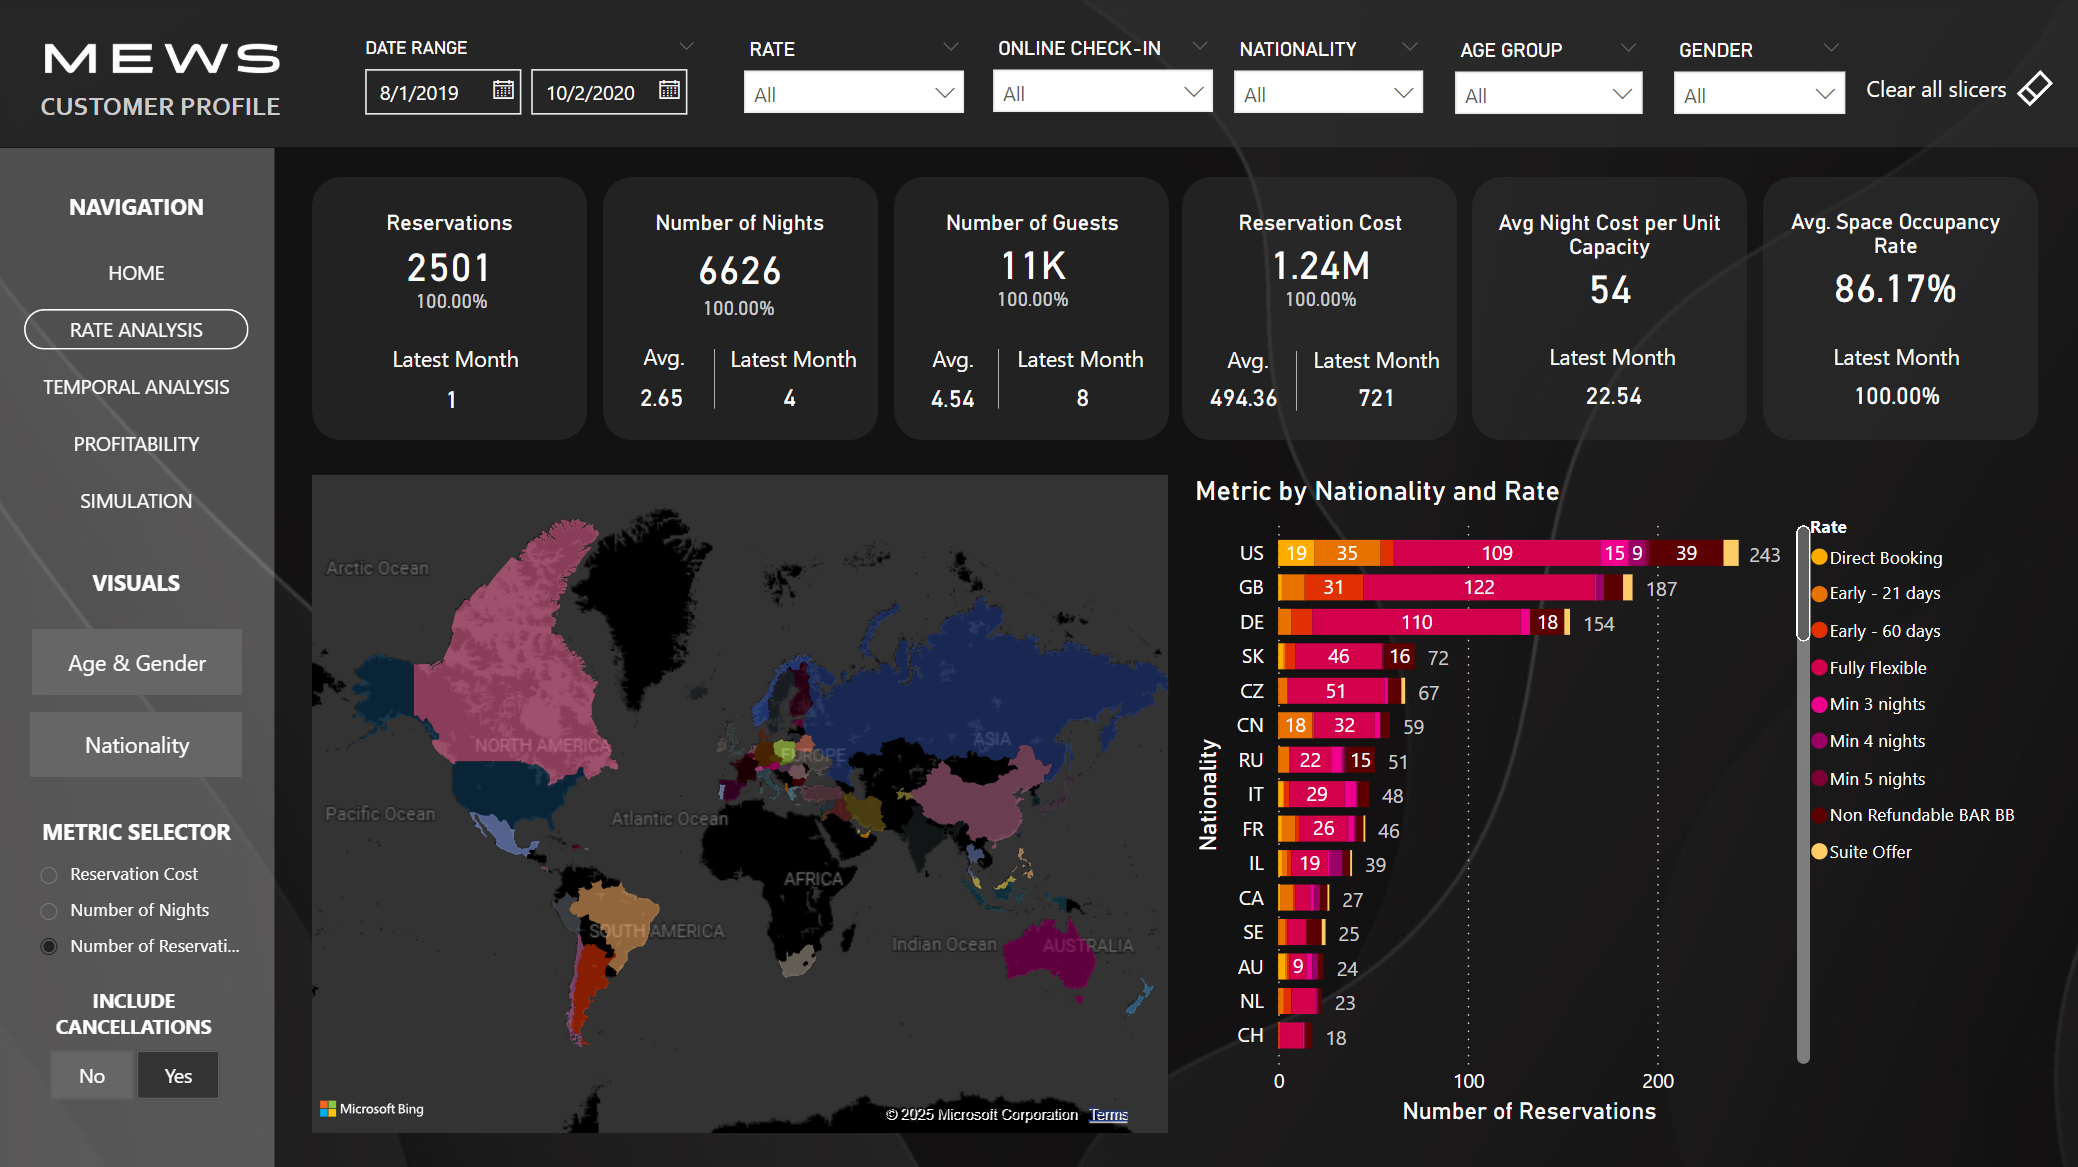

The page's visual inventory and layout, read from the dashboard file:
{"tool":"powerbi","page":{"name":"RATE ANALYSIS","canvas":[1280,720],"ordinal":1},"visuals":[{"type":"group","id":"g1","title":"Background","box":[0,0,1280,720.9],"z":0},{"type":"shape","title":"Header Bar","box":[0,0,1280,91.7],"z":0,"group":"g2"},{"type":"shape","title":"Side Bar","box":[0,91.9,169.8,627.7],"z":0,"group":"g5"},{"type":"shape","title":"Box Reservations","box":[193.3,110,169.2,161.7],"z":0,"group":"g10"},{"type":"shape","title":"Box Num Nights","box":[371.7,110,169.2,161.7],"z":0,"group":"g11"},{"type":"shape","title":"Box Reservation Cost","box":[727.5,110,169.2,161.7],"z":0,"group":"g9"},{"type":"shape","title":"Box Avg. Night per Unit","box":[905.8,110,169.2,161.7],"z":0,"group":"g7"},{"type":"shape","title":"Box Avg. Occupancy","box":[1084.2,110,169.2,161.7],"z":0,"group":"g8"},{"type":"textbox","title":"Text Navitagor","box":[0,114.1,170,31.7],"z":0,"group":"g6"},{"type":"columnChart","title":"Metric by Gender and Rate","fields":{"Y":["int_reservations_enriched.Reservations"],"Category":["int_reservations_enriched.rate_name"],"Series":["int_reservations_enriched.gender"]},"box":[193.3,292.9,474.7,404.9],"z":0,"group":"g3"},{"type":"actionButton","title":"Nationality Bookmark","box":[20.6,438.6,129.1,39.7],"z":0,"group":"g4"},{"type":"shape","title":"Shader","box":[0,0,1280,720.9],"z":1000,"group":"g1"},{"type":"textbox","title":"Customer Profile Text","box":[20.8,51.7,165.8,30.8],"z":1000,"group":"g2"},{"type":"card","title":"Avg. Space Occupancy Rate","fields":{"Values":["int_reservations_enriched.avg_occupancy_rate"]},"box":[1088.2,129.5,155.6,70.4],"z":1000,"group":"g8"},{"type":"card","title":"Reservations","fields":{"Values":["int_reservations_enriched.Reservations"]},"box":[192.5,130,170,58.3],"z":1000,"group":"g10"},{"type":"card","title":"Avg Night Cost per Unit Capacity","fields":{"Values":["int_reservations_enriched.AvgNightCostPerUnitCapacity"]},"box":[905.8,130,169.2,70.8],"z":1000,"group":"g7"},{"type":"pageNavigator","box":[15.8,155.8,138.3,167.2],"z":1000,"group":"g6"},{"type":"card","title":"Avg. Num Nights","fields":{"Values":["int_reservations_enriched.avg_number_of_nights"]},"box":[370,215.8,75.8,62.5],"z":1000,"group":"g11"},{"type":"card","title":"Avg. Cost","fields":{"Values":["int_reservations_enriched.avg_reservation_cost"]},"box":[727.5,215.8,75.8,62.5],"z":1000,"group":"g9"},{"type":"treemap","title":"Metric by Age Group and Rate","fields":{"Values":["int_reservations_enriched.Reservations"],"Group":["int_reservations_enriched.age_group"],"Details":["int_reservations_enriched.rate_name"]},"box":[687.8,292.6,565.6,404.9],"z":1000,"group":"g3"},{"type":"actionButton","title":"Age & Gender Bookmark","box":[20.6,387.4,129.1,40.5],"z":1000,"group":"g4"},{"type":"slicer","title":"INCLUDE CANCELLATIONS","fields":{"Values":["IncludeCancellations.Include"]},"box":[6.1,607.5,154.4,75.7],"z":1000,"group":"g5"},{"type":"group","id":"g2","title":"Header","box":[0,0,1280,92.5],"z":2000},{"type":"image","title":"Mews Logo","box":[24.2,14.2,154.2,45.8],"z":2000,"group":"g2"},{"type":"shape","title":"Box Num Guests","box":[550,110,169.2,161.7],"z":2000,"group":"g12"},{"type":"card","title":"Reservations %","fields":{"Values":["int_reservations_enriched.% Reservations"]},"box":[193.7,151.7,170,71.7],"z":2000,"group":"g10"},{"type":"textbox","title":"Text Avg Num Nights","box":[391.7,206.7,49.2,33.3],"z":2000,"group":"g11"},{"type":"textbox","title":"Text Avg. Cost","box":[750,208.3,46.7,33.3],"z":2000,"group":"g9"},{"type":"card","title":"LM Avg. Night per Unit","fields":{"Values":["int_reservations_enriched.latest_month_night_cost_per_unit_capacity"]},"box":[955,214.2,75.8,62.5],"z":2000,"group":"g7"},{"type":"card","title":"LM Avg. Space Occupancy","fields":{"Values":["int_reservations_enriched.latest_month_occupancy_rate"]},"box":[1128.4,214.2,75.8,62.5],"z":2000,"group":"g8"},{"type":"textbox","title":"Visuals text box","box":[0,345.2,169.8,31.9],"z":2000,"group":"g4"},{"type":"slicer","title":"METRIC SELECTOR","fields":{"Values":["Parameter.Metric Selector"]},"box":[13,503.1,144.2,104.3],"z":2000,"group":"g5"},{"type":"slicer","title":"Gender Slicer","fields":{"Values":["int_reservations_enriched.gender"]},"box":[1019.8,20.2,124.5,71.8],"z":3000,"group":"g2"},{"type":"textbox","title":"Text LM Avg. Night per Unit","box":[948.3,206.7,95.8,45],"z":3000,"group":"g7"},{"type":"textbox","title":"Text LM Avg. Space Occupancy","box":[1122.5,206.7,95.8,45],"z":3000,"group":"g8"},{"type":"shape","title":"Num Nights Separator","box":[421.7,215.8,37.5,36.7],"z":3000,"group":"g11"},{"type":"card","title":"Avg. Num Guests","fields":{"Values":["int_reservations_enriched.avg_number_of_guests"]},"box":[548.3,216,75.8,62.5],"z":3000,"group":"g12"},{"type":"card","title":"LM Reservations","fields":{"Values":["int_reservations_enriched.latest_month_number_of_reservations"]},"box":[240.8,216.7,75.8,62.5],"z":3000,"group":"g10"},{"type":"shape","title":"Cost Separator","box":[779.2,216.7,37.5,36.7],"z":3000,"group":"g9"},{"type":"group","id":"g3","title":"Visuals","box":[19.9,292.6,1233.6,405.3],"z":3000},{"type":"group","id":"g4","title":"Visuals Selector","box":[0,345.2,169.8,133.1],"z":3000,"group":"g5"},{"type":"shape","title":"Age & Gender Visual Shader","box":[20.6,387.4,129.1,40.5],"z":3000,"group":"g4"},{"type":"slicer","title":"Nationality Slicer","fields":{"Values":["int_reservations_enriched.nationality_code"]},"box":[749.7,19.9,136,72.6],"z":4000,"group":"g2"},{"type":"group","id":"g5","title":"Side Bar","box":[0,91.9,170,627.7],"z":4000},{"type":"group","id":"g6","title":"Navigator","box":[0,114.1,170,208.9],"z":4000,"group":"g5"},{"type":"textbox","title":"Text LM Reservations","box":[237.5,207.5,95.8,45],"z":4000,"group":"g10"},{"type":"textbox","title":"Text Avg Num Guests","box":[568.3,207.5,46.7,33.3],"z":4000,"group":"g12"},{"type":"card","title":"LM Num Nights","fields":{"Values":["int_reservations_enriched.latest_month_number_of_nights"]},"box":[448.3,215.8,75.8,62.5],"z":4000,"group":"g11"},{"type":"card","title":"LM Cost","fields":{"Values":["int_reservations_enriched.latest_month_reservation_costs"]},"box":[809.2,215.8,75.8,62.5],"z":4000,"group":"g9"},{"type":"slicer","title":"Age Slicer","fields":{"Values":["int_reservations_enriched.age_group"]},"box":[885.2,20.2,134.5,71.8],"z":5000,"group":"g2"},{"type":"group","id":"g7","title":"KPI Avg. Night Cost per Unit","box":[905.8,110,169.2,166.7],"z":5000},{"type":"card","title":"Reservation Cost","fields":{"Values":["int_reservations_enriched.Total Reservation Cost"]},"box":[727.5,130,170,56.7],"z":5000,"group":"g9"},{"type":"card","title":"% Number of Nights","fields":{"Values":["int_reservations_enriched.% Nights"]},"box":[370,177.9,170,28.3],"z":5000,"group":"g11"},{"type":"shape","title":"Num Guests Separator","box":[595.8,215.8,37.5,36.7],"z":5000,"group":"g12"},{"type":"card","title":"Number of Guests %","fields":{"Values":["int_reservations_enriched.% Reservation Cost"]},"box":[550,172.5,170,27.5],"z":5250,"group":"g12"},{"type":"card","title":"Number of Guests","fields":{"Values":["int_reservations_enriched.Number of Guests"]},"box":[550,130,170,56.7],"z":5500,"group":"g12"},{"type":"slicer","title":"Rate Slicer","fields":{"Values":["int_reservations_enriched.rate_name"]},"box":[448.6,19.9,155.1,72.6],"z":6000,"group":"g2"},{"type":"group","id":"g8","title":"KPI Avg. Space Occupancy","box":[1084.2,110,169.2,166.7],"z":6000},{"type":"card","title":"Number of Nights","fields":{"Values":["int_reservations_enriched.Total Nights"]},"box":[371.4,130,169.2,62.5],"z":6000,"group":"g11"},{"type":"card","title":"Night Cost %","fields":{"Values":["int_reservations_enriched.% Reservation Cost"]},"box":[727.5,172.5,170,27.5],"z":6000,"group":"g9"},{"type":"card","title":"LM Num Guests","fields":{"Values":["int_reservations_enriched.most_recent_month_guest_count"]},"box":[628.5,215.8,75.8,62.5],"z":6000,"group":"g12"},{"type":"actionButton","title":"Clear Slicers","box":[1144.2,30,123.3,50],"z":7000,"group":"g2"},{"type":"group","id":"g9","title":"KPI Reservation Cost","box":[727.5,110,171.7,168.3],"z":7000},{"type":"textbox","title":"Text LM Num Nights","box":[445,207.5,95.8,45],"z":7000,"group":"g11"},{"type":"textbox","title":"Text LM Num Guests","box":[621,207.5,95.8,45],"z":7000,"group":"g12"},{"type":"textbox","title":"Text LM Cost","box":[803.3,208.3,95.8,45],"z":7000,"group":"g9"},{"type":"slicer","title":"Rate Slicer","fields":{"Values":["int_reservations_enriched.OnlineCheckinText"]},"box":[601.4,19.1,155.1,72.6],"z":8000,"group":"g2"},{"type":"group","id":"g10","title":"KPÎ Reservations","box":[192.5,110,171.2,169.2],"z":8000},{"type":"slicer","title":"Date Slicer","fields":{"Values":["int_reservations_enriched.start_datetime_utc"]},"box":[212.4,19.9,227.8,65.2],"z":9000,"group":"g2"},{"type":"group","id":"g11","title":"KPI Num Nights","box":[370,110,170.8,168.3],"z":9000},{"type":"group","id":"g12","title":"KPI Num Guests","box":[548.3,110,171.7,168.5],"z":10000}]}

Visuals, with their boxes in screenshot pixels (x1, y1, x2, y2), scaled from the page's 1280x720 canvas onto the 2078x1167 screenshot:
"Background" group: bbox=(0, 0, 2077, 1166)
"Header Bar" shape: bbox=(0, 0, 2077, 149)
"Side Bar" shape: bbox=(0, 149, 276, 1166)
"Box Reservations" shape: bbox=(314, 178, 588, 440)
"Box Num Nights" shape: bbox=(603, 178, 878, 440)
"Box Reservation Cost" shape: bbox=(1181, 178, 1456, 440)
"Box Avg. Night per Unit" shape: bbox=(1471, 178, 1745, 440)
"Box Avg. Occupancy" shape: bbox=(1760, 178, 2035, 440)
"Text Navitagor" textbox: bbox=(0, 185, 276, 236)
"Metric by Gender and Rate" columnChart: bbox=(314, 475, 1084, 1131)
"Nationality Bookmark" actionButton: bbox=(33, 711, 243, 775)
"Shader" shape: bbox=(0, 0, 2077, 1166)
"Customer Profile Text" textbox: bbox=(34, 84, 303, 134)
"Avg. Space Occupancy Rate" card: bbox=(1767, 210, 2019, 324)
"Reservations" card: bbox=(313, 211, 588, 305)
"Avg Night Cost per Unit Capacity" card: bbox=(1471, 211, 1745, 325)
pageNavigator: bbox=(26, 253, 250, 524)
"Avg. Num Nights" card: bbox=(601, 350, 724, 451)
"Avg. Cost" card: bbox=(1181, 350, 1304, 451)
"Metric by Age Group and Rate" treemap: bbox=(1117, 474, 2035, 1131)
"Age & Gender Bookmark" actionButton: bbox=(33, 628, 243, 694)
"INCLUDE CANCELLATIONS" slicer: bbox=(10, 985, 261, 1107)
"Header" group: bbox=(0, 0, 2077, 150)
"Mews Logo" image: bbox=(39, 23, 290, 97)
"Box Num Guests" shape: bbox=(893, 178, 1168, 440)
"Reservations %" card: bbox=(314, 246, 590, 362)
"Text Avg Num Nights" textbox: bbox=(636, 335, 716, 389)
"Text Avg. Cost" textbox: bbox=(1218, 338, 1293, 392)
"LM Avg. Night per Unit" card: bbox=(1550, 347, 1673, 448)
"LM Avg. Space Occupancy" card: bbox=(1832, 347, 1955, 448)
"Visuals text box" textbox: bbox=(0, 560, 276, 611)
"METRIC SELECTOR" slicer: bbox=(21, 815, 255, 984)
"Gender Slicer" slicer: bbox=(1656, 33, 1858, 149)
"Text LM Avg. Night per Unit" textbox: bbox=(1540, 335, 1695, 408)
"Text LM Avg. Space Occupancy" textbox: bbox=(1822, 335, 1978, 408)
"Num Nights Separator" shape: bbox=(685, 350, 745, 409)
"Avg. Num Guests" card: bbox=(890, 350, 1013, 451)
"LM Reservations" card: bbox=(391, 351, 514, 453)
"Cost Separator" shape: bbox=(1265, 351, 1326, 411)
"Visuals" group: bbox=(32, 474, 2035, 1131)
"Visuals Selector" group: bbox=(0, 560, 276, 775)
"Age & Gender Visual Shader" shape: bbox=(33, 628, 243, 694)
"Nationality Slicer" slicer: bbox=(1217, 32, 1438, 150)
"Side Bar" group: bbox=(0, 149, 276, 1166)
"Navigator" group: bbox=(0, 185, 276, 524)
"Text LM Reservations" textbox: bbox=(386, 336, 541, 409)
"Text Avg Num Guests" textbox: bbox=(923, 336, 998, 390)
"LM Num Nights" card: bbox=(728, 350, 851, 451)
"LM Cost" card: bbox=(1314, 350, 1437, 451)
"Age Slicer" slicer: bbox=(1437, 33, 1655, 149)
"KPI Avg. Night Cost per Unit" group: bbox=(1471, 178, 1745, 448)
"Reservation Cost" card: bbox=(1181, 211, 1457, 303)
"% Number of Nights" card: bbox=(601, 288, 877, 334)
"Num Guests Separator" shape: bbox=(967, 350, 1028, 409)
"Number of Guests %" card: bbox=(893, 280, 1169, 324)
"Number of Guests" card: bbox=(893, 211, 1169, 303)
"Rate Slicer" slicer: bbox=(728, 32, 980, 150)
"KPI Avg. Space Occupancy" group: bbox=(1760, 178, 2035, 448)
"Number of Nights" card: bbox=(603, 211, 878, 312)
"Night Cost %" card: bbox=(1181, 280, 1457, 324)
"LM Num Guests" card: bbox=(1020, 350, 1143, 451)
"Clear Slicers" actionButton: bbox=(1858, 49, 2058, 130)
"KPI Reservation Cost" group: bbox=(1181, 178, 1460, 451)
"Text LM Num Nights" textbox: bbox=(722, 336, 878, 409)
"Text LM Num Guests" textbox: bbox=(1008, 336, 1164, 409)
"Text LM Cost" textbox: bbox=(1304, 338, 1460, 411)
"Rate Slicer" slicer: bbox=(976, 31, 1228, 149)
"KPÎ Reservations" group: bbox=(313, 178, 590, 453)
"Date Slicer" slicer: bbox=(345, 32, 715, 138)
"KPI Num Nights" group: bbox=(601, 178, 878, 451)
"KPI Num Guests" group: bbox=(890, 178, 1169, 451)
